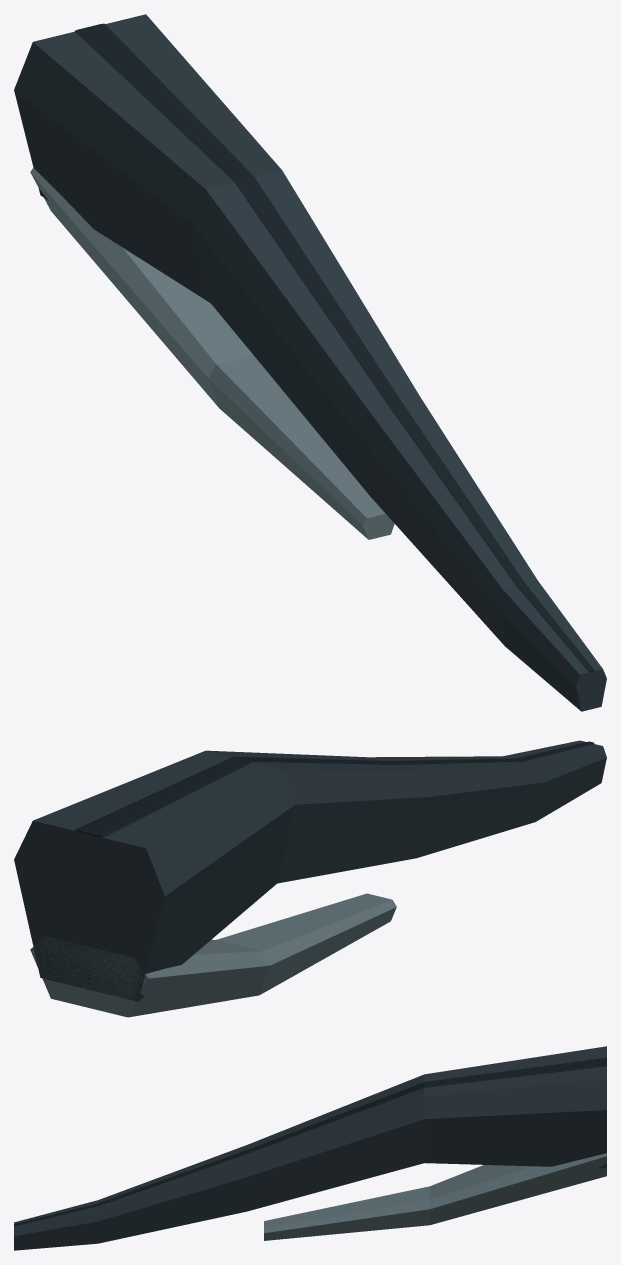
File: Suspension_Buttress.glb
3 views of the same model, one above another, from view 1: azimuth 30°, elevation 25°; view 2: azimuth 150°, elevation 25°; view 3: azimuth 270°, elevation 25° (orthographic). The views are drawn at different scales.
Parts seen in each view (by area): view 1: B1 | sweeping suspension monolith, B1 | lower separated root, B1 | recessed upper channel; view 2: B1 | sweeping suspension monolith, B1 | lower separated root, B1 | recessed upper channel; view 3: B1 | sweeping suspension monolith, B1 | lower separated root, B1 | recessed upper channel.
Boxes of the visible parts, x1,y1,x2,y2 form: B1 | sweeping suspension monolith: (14, 14, 606, 711); B1 | lower separated root: (30, 168, 394, 539); B1 | recessed upper channel: (75, 23, 594, 672); B1 | sweeping suspension monolith: (14, 740, 606, 1001); B1 | lower separated root: (30, 893, 396, 1017); B1 | recessed upper channel: (75, 741, 594, 837); B1 | sweeping suspension monolith: (14, 1046, 606, 1250); B1 | lower separated root: (264, 1153, 606, 1240); B1 | recessed upper channel: (14, 1057, 606, 1226).
Size of the model in its own units: 186 by 371 by 1072.
